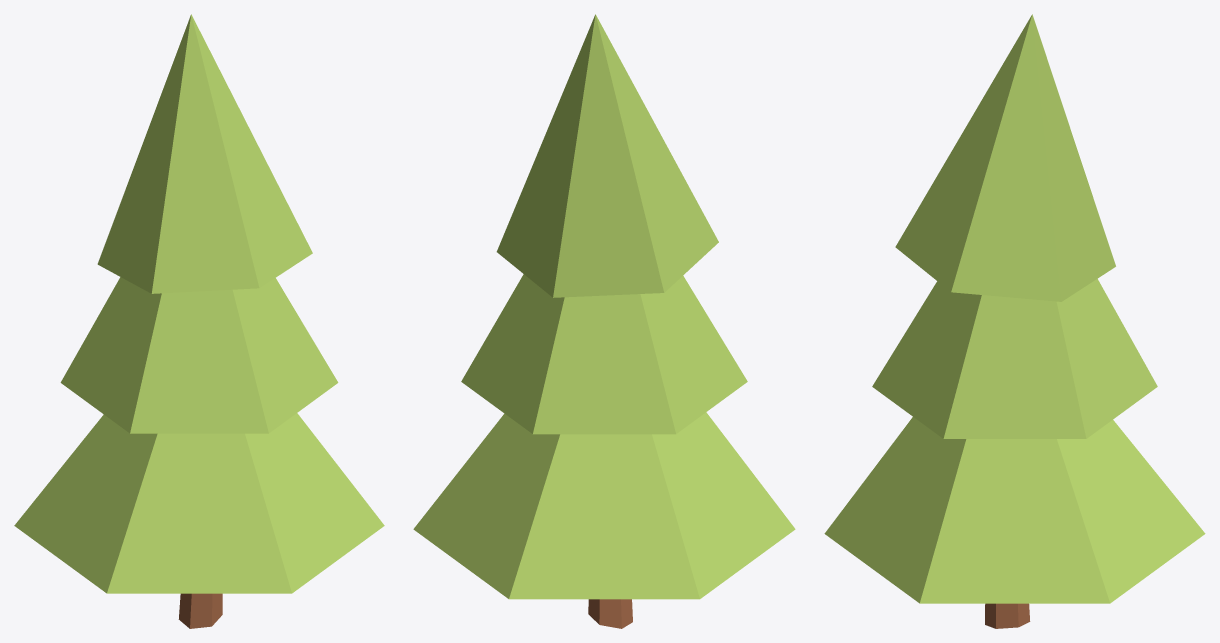
File: Tree_4.fbx
The picture shows the model from 3 angles, left to right: view 1: azimuth 30°, elevation 25°; view 2: azimuth 150°, elevation 25°; view 3: azimuth 270°, elevation 25°; orthographic projection. The views are drawn at different scales.
Parts seen in each view (by area): view 1: Cone.003; view 2: Cone.003; view 3: Cone.003.
Part boxes in pixels (bbox=[...]): Cone.003: bbox=[14, 14, 384, 628]; Cone.003: bbox=[413, 14, 795, 628]; Cone.003: bbox=[824, 14, 1205, 628].
Bounding box in the file's own units: 216 × 444 × 250.
